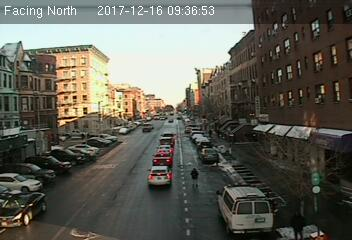car: (1, 190, 49, 228), (147, 166, 173, 187), (198, 147, 219, 164), (152, 153, 173, 167), (156, 143, 173, 155)
pedestrian: (290, 210, 308, 240), (190, 167, 200, 189)
police: (215, 181, 277, 234)
